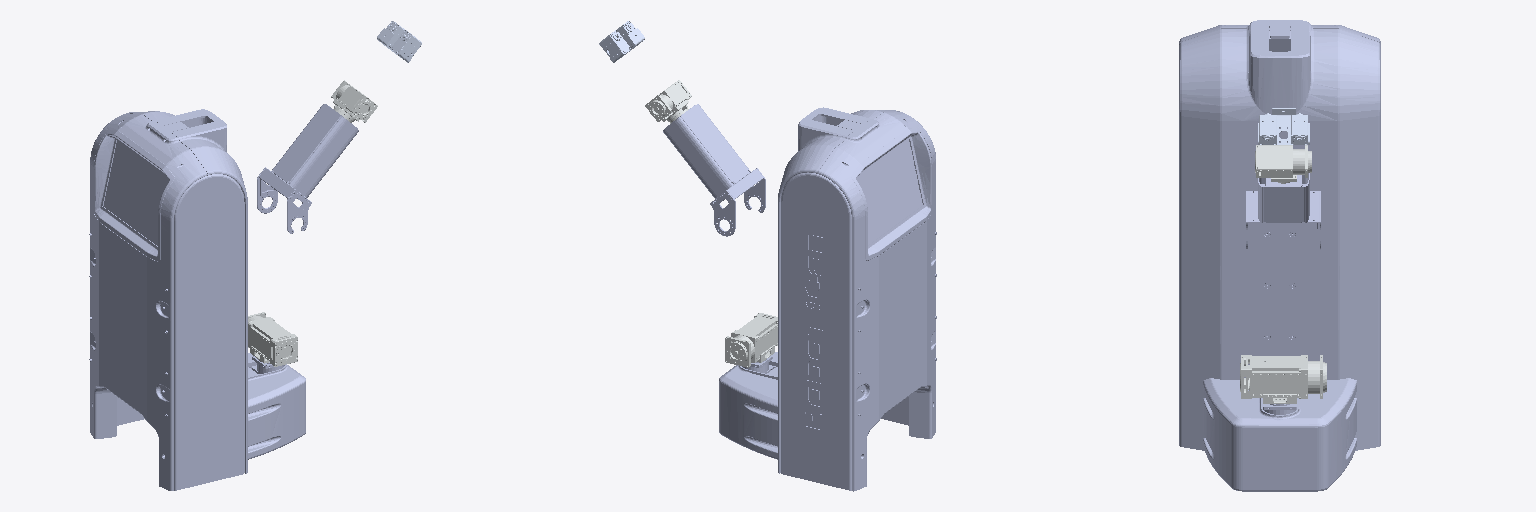
The robot description file, URDF, robot "armadillo2_robot":
<?xml version="1.0"?>

<robot xmlns:xacro="http://www.ros.org/wiki/xacro" name="armadillo2_robot" description="ARMadillo Robot">

<!-- <xacro:property name="3.1415926535897931" value="3.1415926535897931" />-->
<link name="base_footprint"/>
  
 <joint name="base_footprint_joint" type="fixed">
    <parent link="base_footprint"/>
    <child link="base_link"/>
    <origin xyz="0.00 0.00 0.1" rpy="0.0 0.0 0.0"/>
  </joint> 

  <link
    name="base_link">
    <inertial>
      <origin
        xyz="-0.012353 0.000122 0.17716"
        rpy="0 0 0" />
      <mass
        value="50.6774" />
      <inertia
        ixx="50.61071"
        ixy="2.5604E-05"
        ixz="-0.080403"
        iyy="0.58359"
        iyz="-0.00032953"
        izz="0.35309" />
    </inertial>
    <visual>
      <origin
        xyz="0 0 0"
        rpy="0 0 0" />
      <geometry>
        <mesh
          filename="package://armadillo2_description/mesh/base_link.STL" />
      </geometry>
      <material
        name="">
        <color
          rgba="0.79216 0.81961 0.93333 1" />
      </material>
    </visual>
 <collision name='base_collision'>
       <origin
        xyz="0 0 0"
        rpy="0 0 0" />
      <geometry>
        <mesh
          filename="package://armadillo2_description/mesh/base_link.STL" />
      </geometry>
          </collision>

      <collision name='caster_collision'>
      <origin
        xyz="-0.3 0 -0.0385"
        rpy="0 0 0" />
            <geometry>
              <sphere radius="0.05"/>
            </geometry>
            <surface>
              <friction>
                <ode>
                  <mu>0</mu>
                  <mu2>0</mu2>
                  <slip1>1.0</slip1>
                  <slip2>1.0</slip2>
                </ode>
              </friction>
            </surface>
          </collision>
  </link>
  <link
    name="torso_link">
    <inertial>
      <origin
        xyz="-0.059733 -0.00037419 0.54938"
        rpy="0 0 0" />
      <mass
        value="4.9226" />
      <inertia
        ixx="0.27696"
        ixy="0.00010279"
        ixz="-0.051125"
        iyy="0.28305"
        iyz="-5.4525E-06"
        izz="0.10934" />
    </inertial>
    <visual>
      <origin
        xyz="0 0 0"
        rpy="0 0 0" />
      <geometry>
        <mesh
          filename="package://armadillo2_description/mesh/torso_link.STL" />
      </geometry>
      <material
        name="">
        <color
          rgba="0.79216 0.81961 0.93333 1" />
      </material>
    </visual>
    <collision>
      <origin
        xyz="0 0 0"
        rpy="0 0 0" />
      <geometry>
        <mesh
          filename="package://armadillo2_description/mesh/torso_link.STL" />
      </geometry>
    </collision>
  </link>
  <joint
    name="torso_joint"
    type="prismatic">
    <origin
      xyz="0 0 0"
      rpy="0 0 0" />
    <parent
      link="base_link" />
    <child
      link="torso_link" />
    <axis
      xyz="0 0 1" />
    <limit
      lower="0.0"
      upper="0.5"
      effort="10.0"
      velocity="0.1" />
  </joint>
 
  <link
    name="rotation1_link">
    <inertial>
      <origin
        xyz="-3.5316E-10 0.0073117 0.032399"
        rpy="0 0 0" />
      <mass
        value="0.035317" />
      <inertia
        ixx="0.00055596"
        ixy="9.2522E-12"
        ixz="9.2226E-12"
        iyy="0.00016945"
        iyz="6.1918E-06"
        izz="0.00055286" />
    </inertial>
    <visual>
      <origin
        xyz="0 0 0"
        rpy="0 0 0" />
      <geometry>
        <mesh
          filename="package://armadillo2_description/mesh/rotation1_link.STL" />
      </geometry>
      <material
        name="">
        <color
          rgba="0.89804 0.91765 0.92941 1" />
      </material>
    </visual>
    <collision>
      <origin
        xyz="0 0 0"
        rpy="0 0 0" />
      <geometry>
        <mesh
          filename="package://armadillo2_description/mesh/rotation1_link.STL" />
      </geometry>
    </collision>
  </link>
  <joint
    name="rotation1_joint"
    type="revolute">
    <origin
      xyz="0.11617 0 0.3885"
      rpy="0 0 0" />
    <parent
      link="torso_link" />
    <child
      link="rotation1_link" />
    <axis
      xyz="0 0 1" />
       <limit
      effort="44.7"
      lower="-1.57"
      upper="1.57"
      velocity="2.0" /> <!--3.455751915-->
  </joint>
  <link
    name="shoulder1_link">
    <inertial>
      <origin
        xyz="0.01628 -0.03243 0.20044"
        rpy="0 0 0" />
      <mass
        value="0.052217" />
      <inertia
        ixx="0.0043595"
        ixy="-3.1405E-06"
        ixz="0.00053636"
        iyy="0.0041046"
        iyz="-5.2275E-05"
        izz="0.00081871" />
    </inertial>
    <visual>
      <origin
        xyz="0 0 0"
        rpy="0 0 0" />
      <geometry>
        <mesh
          filename="package://armadillo2_description/mesh/shoulder1_link.STL" />
      </geometry>
      <material
        name="">
        <color
          rgba="0.89804 0.91765 0.92941 1" />
      </material>
    </visual>
    <collision>
      <origin
        xyz="0 0 0"
        rpy="0 0 0" />
      <geometry>
        <mesh
          filename="package://armadillo2_description/mesh/shoulder1_link.STL" />
      </geometry>
    </collision>
  </link>
  <joint
    name="shoulder1_joint"
    type="revolute">
    <origin
      xyz="0 0.039 0.0335"
      rpy="0 0 0" />
    <parent
      link="rotation1_link" />
    <child
      link="shoulder1_link" />
    <axis
      xyz="0 1 0" />
    <limit
      effort="44.7"
      lower="-1.57"
      upper="1.95"
      velocity="2.0" /> <!--3.455751915-->
  </joint>
  <link
    name="shoulder2_link">
    <inertial>
      <origin
        xyz="0.068154 -0.020691 0.11032"
        rpy="0 0 0" />
      <mass
        value="0.047392" />
      <inertia
        ixx="0.00093237"
        ixy="-1.0052E-05"
        ixz="0.00048929"
        iyy="0.0012859"
        iyz="-1.3286E-05"
        izz="0.00091329" />
    </inertial>
    <visual>
      <origin
        xyz="0 0 0"
        rpy="0 0 0" />
      <geometry>
        <mesh
          filename="package://armadillo2_description/mesh/shoulder2_link.STL" />
      </geometry>
      <material
        name="">
        <color
          rgba="0.79216 0.81961 0.93333 1" />
      </material>
    </visual>
    <collision>
      <origin
        xyz="0 0 0"
        rpy="0 0 0" />
      <geometry>
        <mesh
          filename="package://armadillo2_description/mesh/shoulder2_link.STL" />
      </geometry>
    </collision>
  </link>
  <joint
    name="shoulder2_joint"
    type="revolute">
    <origin
      xyz="0.029998 -0.012 0.264"
      rpy="0 0 0" />
    <parent
      link="shoulder1_link" />
    <child
      link="shoulder2_link" />
    <axis
      xyz="0 1 0" />
    <limit
      effort="25.3"
      lower="-1.48"
      upper="2.3522"
      velocity="2.0" /> <!--3.455751915-->
  </joint>
  <link
    name="rotation2_link">
    <inertial>
      <origin
        xyz="5.0638E-06 -0.0012262 0.056857"
        rpy="0 0 0" />
      <mass
        value="0.01635" />
      <inertia
        ixx="0.00014092"
        ixy="1.0984E-09"
        ixz="1.6669E-08"
        iyy="8.0775E-05"
        iyz="-1.7606E-06"
        izz="0.00010647" />
    </inertial>
    <visual>
      <origin
        xyz="0 0 0"
        rpy="0 0 0" />
      <geometry>
        <mesh
          filename="package://armadillo2_description/mesh/rotation2_link.STL" />
      </geometry>
      <material
        name="">
        <color
          rgba="0.89804 0.91765 0.92941 1" />
      </material>
    </visual>
    <collision>
      <origin
        xyz="0 0 0"
        rpy="0 0 0" />
      <geometry>
        <mesh
          filename="package://armadillo2_description/mesh/rotation2_link.STL" />
      </geometry>
    </collision>
  </link>
  <joint
    name="rotation2_joint"
    type="revolute">
    <origin
      xyz="0.11667 -0.021 0.1591"
      rpy="1.3528E-11 0.7854 1.9131E-11" />
    <parent
      link="shoulder2_link" />
    <child
      link="rotation2_link" />
    <axis
      xyz="0 0 1" />
   <limit
      effort="25.3"
      lower="-1.57"
      upper="1.57"
      velocity="2.0" /> <!--3.455751915-->
  </joint>
  <link
    name="shoulder3_link">
    <inertial>
      <origin
        xyz="3.9875E-11 -0.044252 0.069689"
        rpy="0 0 0" />
      <mass
        value="0.015954" />
      <inertia
        ixx="0.00018198"
        ixy="2.1351E-13"
        ixz="-2.3815E-13"
        iyy="0.00015335"
        iyz="-5.6341E-06"
        izz="7.5641E-05" />
    </inertial>
    <visual>
      <origin
        xyz="0 0 0"
        rpy="0 0 0" />
      <geometry>
        <mesh
          filename="package://armadillo2_description/mesh/shoulder3_link.STL" />
      </geometry>
      <material
        name="">
        <color
          rgba="0.79216 0.81961 0.93333 1" />
      </material>
    </visual>
    <collision>
      <origin
        xyz="0 0 0"
        rpy="0 0 0" />
      <geometry>
        <mesh
          filename="package://armadillo2_description/mesh/shoulder3_link.STL" />
      </geometry>
    </collision>
  </link>
  <joint
    name="shoulder3_joint"
    type="revolute">
    <origin
      xyz="0 0.045 0.063"
      rpy="0 0 1.862E-16" />
    <parent
      link="rotation2_link" />
    <child
      link="shoulder3_link" />
    <axis
      xyz="0 1 0" />
    <limit
      effort="5.1"
      lower="-1.57"
      upper="1.57"
      velocity="2.0" /> <!--3.455751915-->
  </joint>
  <link
    name="wrist_link">
    <inertial>
      <origin
        xyz="-8.1889E-11 0.02077 -0.0027746"
        rpy="0 0 0" />
      <mass
        value="0.011365" />
      <inertia
        ixx="4.4099E-05"
        ixy="-1.2434E-13"
        ixz="-1.4422E-13"
        iyy="9.4421E-05"
        iyz="3.0209E-06"
        izz="0.00010114" />
    </inertial>
    <visual>
      <origin
        xyz="0 0 0"
        rpy="0 0 0" />
      <geometry>
        <mesh
          filename="package://armadillo2_description/mesh/wrist_link.STL" />
      </geometry>
      <material
        name="">
        <color
          rgba="0.86667 0.9098 1 1" />
      </material>
    </visual>
    <collision>
      <origin
        xyz="0 0 0"
        rpy="0 0 0" />
      <geometry>
        <mesh
          filename="package://armadillo2_description/mesh/wrist_link.STL" />
      </geometry>
    </collision>
  </link>
  <joint
    name="wrist_joint"
    type="revolute">
    <origin
      xyz="0 -0.045 0.123"
      rpy="1.5708 1.353E-11 1.5708" />
    <parent
      link="shoulder3_link" />
    <child
      link="wrist_link" />
    <axis
      xyz="0 1 0" />
 <limit
      effort="5.1"
      lower="-3.14"
      upper="3.14"
      velocity="2.0" /> <!--3.455751915-->
  </joint>

  <link name="gripper_link"/>

<joint name="gripper_joint" type="fixed">
    <origin xyz="0 0.06 0" rpy="3.1415926535897931 0 1.5707963267949"/>
    <parent link="wrist_link"/>
    <child link="gripper_link"/>
 </joint>


  <link
    name="left_finger_link">
    <inertial>
      <origin
        xyz="5.5511E-17 0.015598 0.034754"
        rpy="0 0 0" />
      <mass
        value="0.0017229" />
      <inertia
        ixx="1.4683E-05"
        ixy="-1.0482E-21"
        ixz="1.8423E-20"
        iyy="1.7304E-05"
        iyz="9.2811E-07"
        izz="4.5506E-06" />
    </inertial>
    <visual>
      <origin
        xyz="0 0 0"
        rpy="0 0 0" />
      <geometry>
        <mesh
          filename="package://armadillo2_description/mesh/left_finger_link.STL" />
      </geometry>
      <material
        name="">
        <color
          rgba="0.86667 0.9098 1 1" />
      </material>
    </visual>
    <collision>
      <origin
        xyz="0 0 0"
        rpy="0 0 0" />
      <geometry>
        <mesh
          filename="package://armadillo2_description/mesh/left_finger_link.STL" />
      </geometry>
    </collision>
  </link>
  <joint
    name="left_finger_joint"
    type="revolute">
    <origin
      xyz="0.025 0.03725 0"
      rpy="1.5708 -1.5708 3.1415926535897931" />
    <parent
      link="wrist_link" />
    <child
      link="left_finger_link" />
    <axis
      xyz="1 0 0" />
    <limit
      effort="3.1"
      lower="-1.57"
      upper="1.57"
      velocity="2.0" /> <!--7.016223585-->
  </joint>
  <link
    name="right_finger_link">
    <inertial>
      <origin
        xyz="-1.1102E-16 -0.015598 0.034754"
        rpy="0 0 0" />
      <mass
        value="0.0017229" />
      <inertia
        ixx="1.4683E-05"
        ixy="2.0869E-20"
        ixz="-3.5787E-20"
        iyy="1.7304E-05"
        iyz="-9.2811E-07"
        izz="4.5506E-06" />
    </inertial>
    <visual>
      <origin
        xyz="0 0 0"
        rpy="0 0 0" />
      <geometry>
        <mesh
          filename="package://armadillo2_description/mesh/right_finger_link.STL" />
      </geometry>
      <material
        name="">
        <color
          rgba="0.86667 0.9098 1 1" />
      </material>
    </visual>
    <collision>
      <origin
        xyz="0 0 0"
        rpy="0 0 0" />
      <geometry>
        <mesh
          filename="package://armadillo2_description/mesh/right_finger_link.STL" />
      </geometry>
    </collision>
  </link>
  <joint
    name="right_finger_joint"
    type="revolute">
    <origin
      xyz="-0.025 0.03725 0"
      rpy="1.5708 -1.5708 3.1415926535897931" />
    <parent
      link="wrist_link" />
    <child
      link="right_finger_link" />
    <axis
      xyz="1 0 0" />
  <limit
      effort="3.1"
      lower="-1.57"
      upper="1.57"
      velocity="2.0" /> <!--7.016223585-->
  </joint>
</robot>

--- What the picture shows (computed from the rendered views, not written in the file) ---
3 views of the same robot in one strip: view 1: azimuth 30°, elevation 25°; view 2: azimuth 150°, elevation 25°; view 3: azimuth 270°, elevation 25° (orthographic).
Robot: armadillo2_robot — 12 links, 11 joints (8 revolute, 1 prismatic, 2 fixed); root link base_footprint; default pose: all joints at 0.
Links seen in each view (by area): view 1: torso_link, shoulder2_link, rotation1_link, rotation2_link, wrist_link; view 2: torso_link, shoulder2_link, rotation1_link, rotation2_link, wrist_link; view 3: torso_link, rotation1_link, shoulder2_link, rotation2_link, wrist_link.
Link boxes in pixels (box(x1,y1,x2,y2)): torso_link: box(89, 109, 305, 490); shoulder2_link: box(257, 104, 358, 233); rotation1_link: box(248, 312, 297, 366); rotation2_link: box(331, 80, 377, 122); wrist_link: box(377, 21, 421, 62); torso_link: box(719, 107, 936, 491); shoulder2_link: box(663, 104, 765, 236); rotation1_link: box(725, 313, 777, 367); rotation2_link: box(645, 80, 691, 123); wrist_link: box(599, 21, 644, 62); torso_link: box(1179, 20, 1380, 491); rotation1_link: box(1240, 355, 1326, 403); shoulder2_link: box(1246, 173, 1320, 249); rotation2_link: box(1255, 145, 1311, 183); wrist_link: box(1258, 108, 1309, 144).
Size in the robot's own frame: 0.6567 by 0.3205 by 0.7891 metres.
5 mesh visuals loaded from 10 distinct referenced files (5 binary STL); not drawn: 5 (reference not matched to a file when rendering).